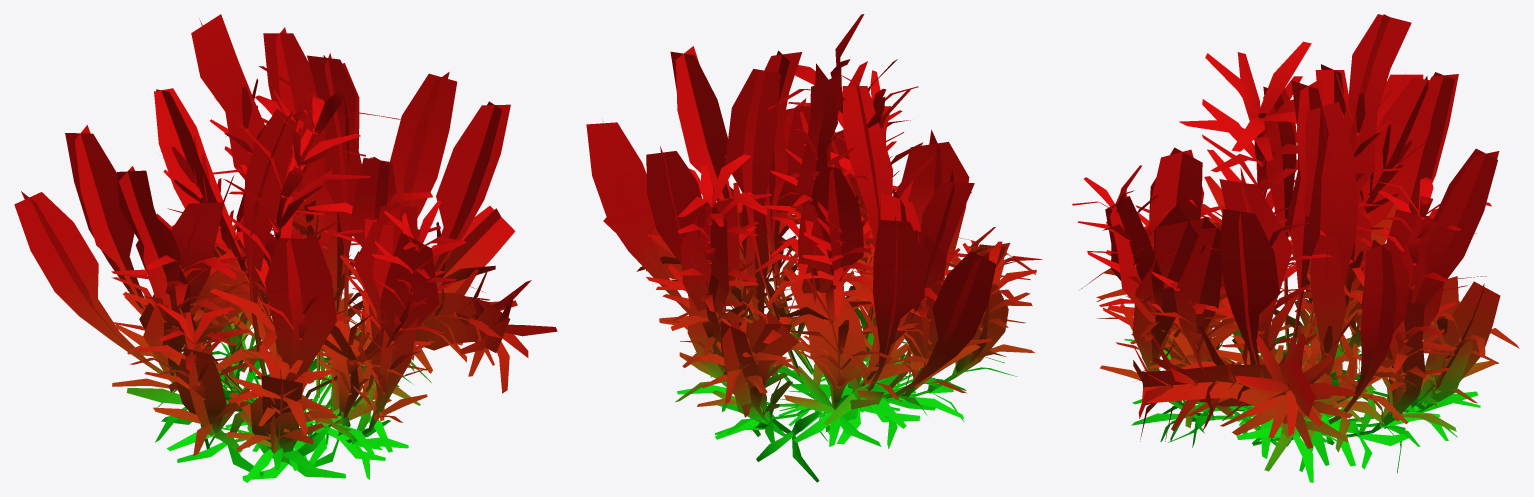
The model's file is Var6_LOD4.fbx.
3 renders of one model, left to right at view 1: azimuth 30°, elevation 25°; view 2: azimuth 150°, elevation 25°; view 3: azimuth 270°, elevation 25°, orthographic. The views are drawn at different scales.
Parts seen in each view (by area): view 1: _600x_Var6_LOD4; view 2: _600x_Var6_LOD4; view 3: _600x_Var6_LOD4.
Boxes of the visible parts, x1=… form: _600x_Var6_LOD4: x1=14, y1=14, x2=557, y2=482; _600x_Var6_LOD4: x1=586, y1=14, x2=1042, y2=482; _600x_Var6_LOD4: x1=1072, y1=14, x2=1519, y2=482.
Size of the model in its own units: 33.51 by 30.27 by 28.02.
